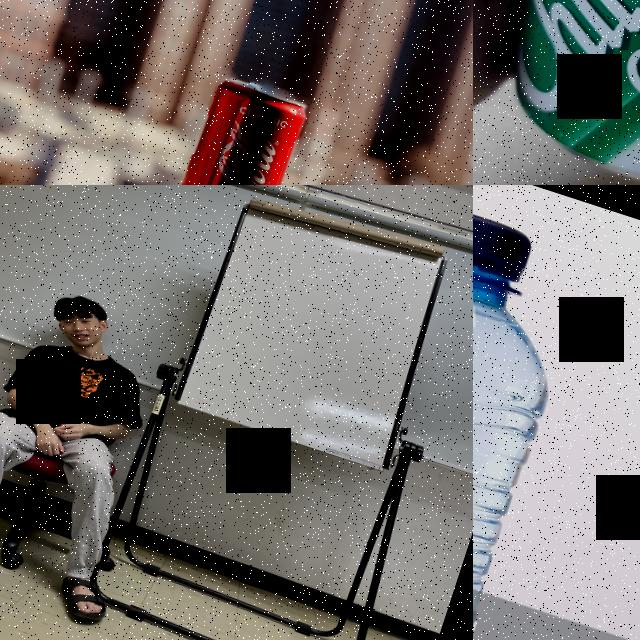bottle: (473, 185, 598, 640)
can: (473, 0, 640, 185), (154, 72, 311, 185)
